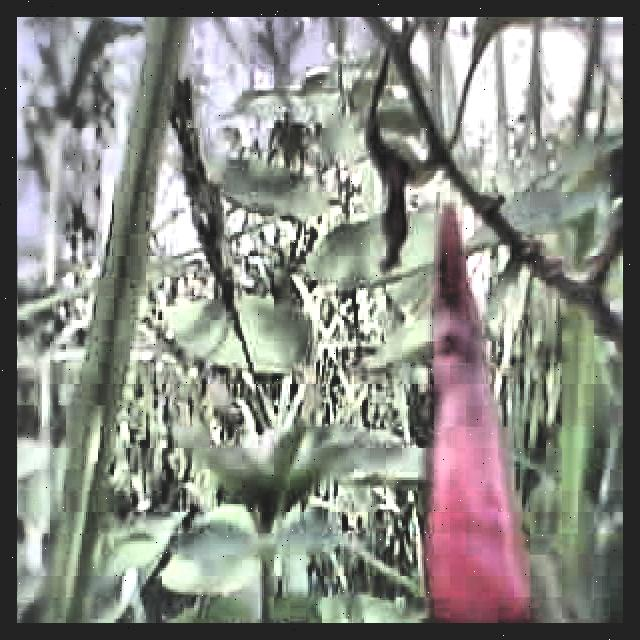Cabai: (407, 204, 557, 623)
